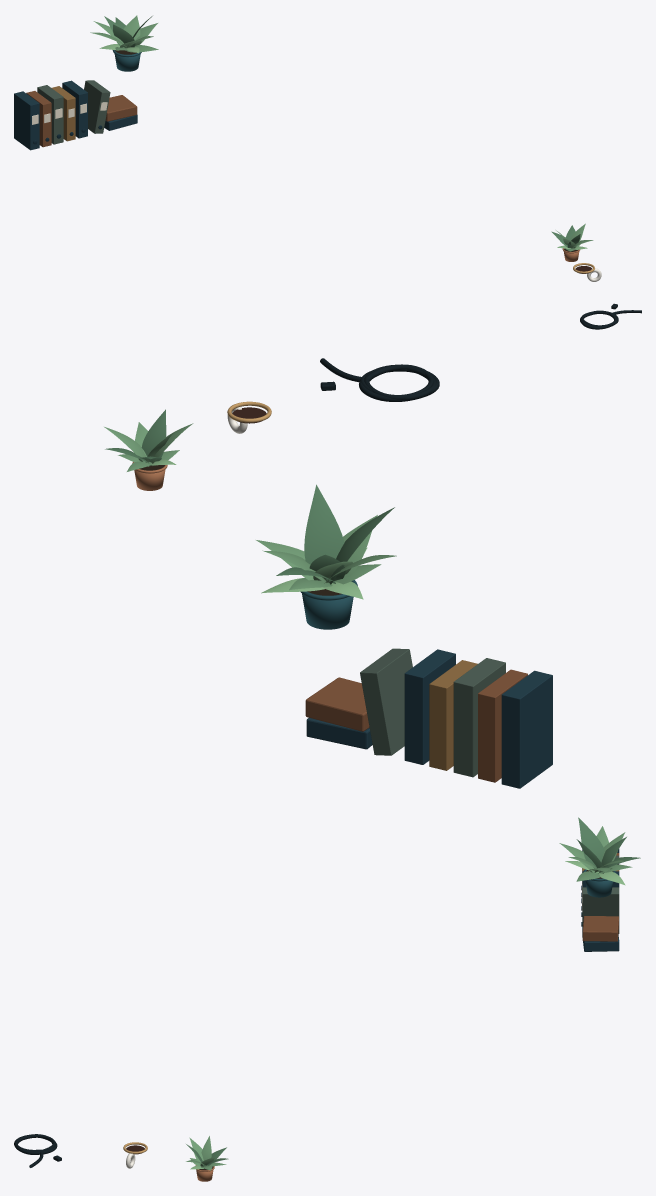
File: werkstatt-deko.glb
3 views of the same model, one above another, from view 1: azimuth 30°, elevation 25°; view 2: azimuth 150°, elevation 25°; view 3: azimuth 270°, elevation 25° (orthographic). The views are drawn at different scales.
Visible parts, largest first — view 1: Pflanze_Regal, Ordner_1, Ordner_6, Ordner_3, Ordner_5, Ordner_2, Pflanze_Tisch, Ordner_4, Ordner_liegend_2, Kabel_Rolle; view 2: Pflanze_Regal, Ordner_1, Ordner_6, Ordner_3, Ordner_5, Pflanze_Tisch, Ordner_2, Ordner_4, Ordner_liegend_2, Kabel_Rolle, Ordner_liegend_1, Kaffeetasse; view 3: Pflanze_Regal, Ordner_liegend_2, Ordner_6, Pflanze_Tisch, Kabel_Rolle.
Part boxes in pixels (x1,y1,x2,y2): Pflanze_Regal: (90, 15, 158, 71); Ordner_1: (14, 91, 39, 150); Ordner_6: (84, 80, 110, 133); Ordner_3: (37, 85, 63, 144); Ordner_5: (62, 80, 87, 138); Ordner_2: (26, 91, 51, 147); Pflanze_Tisch: (551, 223, 593, 261); Ordner_4: (52, 86, 75, 141); Ordner_liegend_2: (105, 95, 137, 121); Kabel_Rolle: (580, 310, 641, 329); Pflanze_Regal: (256, 484, 396, 629); Ordner_1: (501, 670, 552, 788); Ordner_6: (360, 648, 412, 755); Ordner_3: (453, 658, 505, 777); Ordner_5: (404, 649, 455, 764); Pflanze_Tisch: (104, 409, 193, 490); Ordner_2: (478, 669, 527, 782); Ordner_4: (429, 660, 477, 770); Ordner_liegend_2: (305, 677, 369, 731); Kabel_Rolle: (320, 358, 439, 401); Ordner_liegend_1: (306, 717, 372, 749); Kaffeetasse: (227, 401, 271, 433); Pflanze_Regal: (559, 817, 640, 897); Ordner_liegend_2: (582, 916, 618, 941); Ordner_6: (581, 887, 619, 933); Pflanze_Tisch: (186, 1136, 228, 1181); Kabel_Rolle: (14, 1134, 57, 1167).
Bounding box in the file's own units: 7.09 × 3.19 × 8.88.
